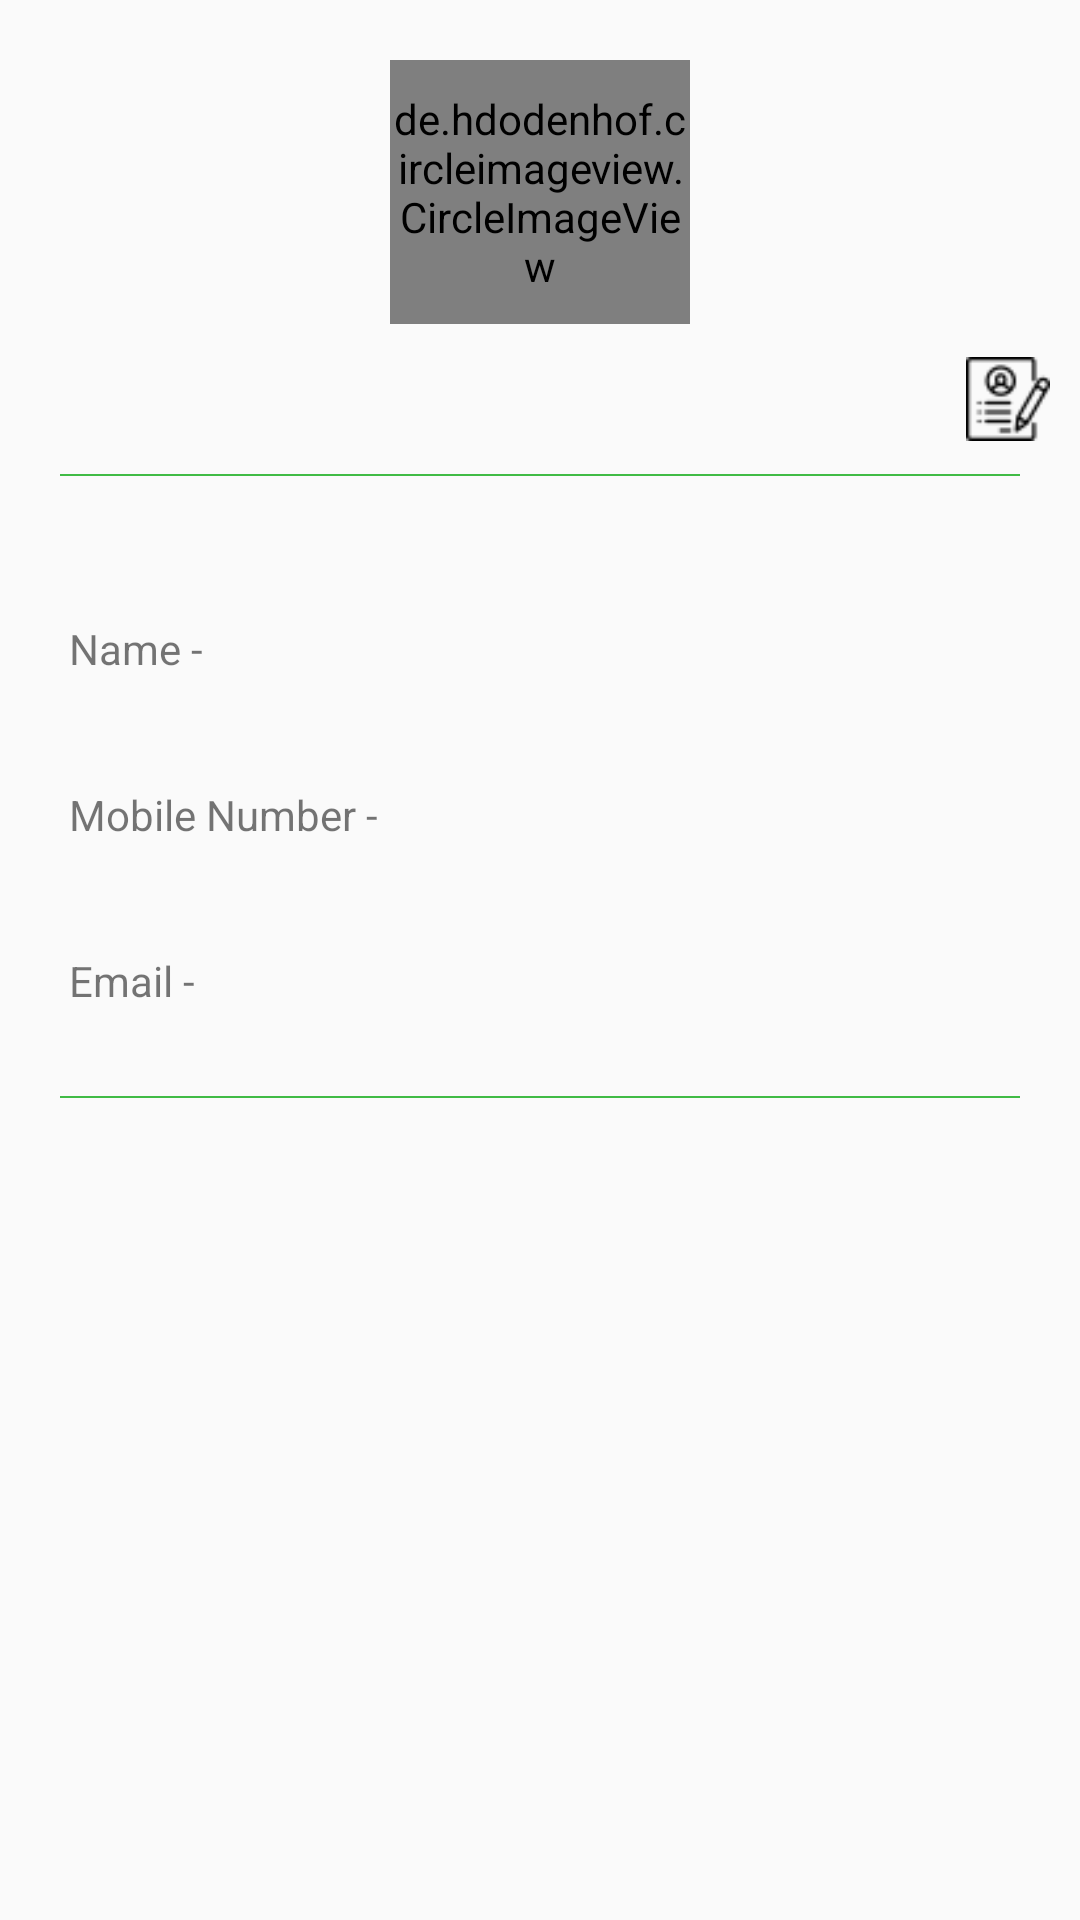

Icon bounding boxes for this 1080px×1920px phone screenshot, format (x1, y1, x2, y2):
eddit: (966, 357, 1050, 441)
